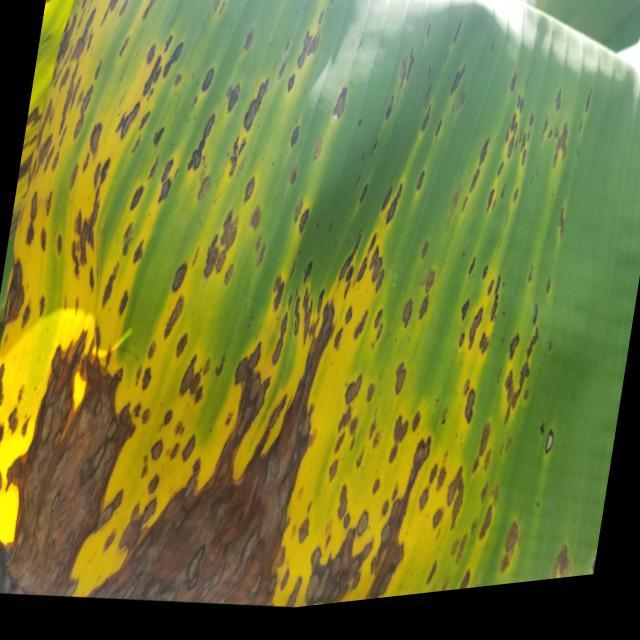Early_rust: (4, 0, 617, 616)
